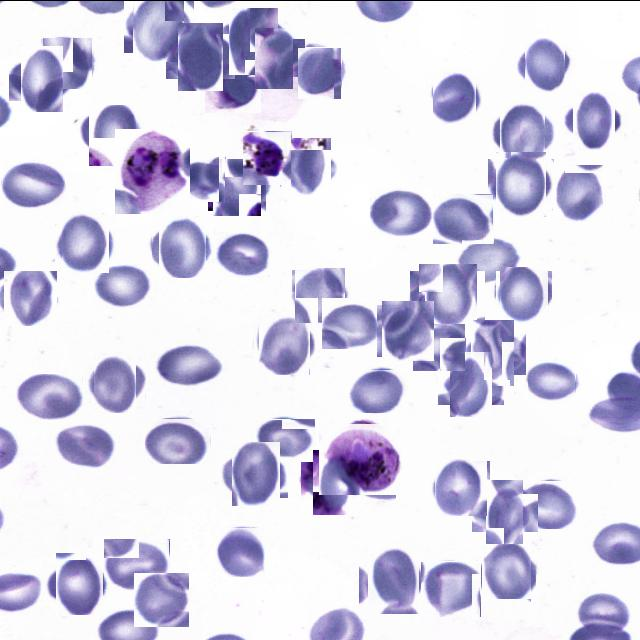difficult: (115, 128, 190, 213), (243, 130, 292, 184)
red blood cell: (414, 266, 480, 332), (364, 548, 424, 608), (129, 0, 190, 57), (370, 188, 436, 240), (104, 538, 170, 590), (224, 12, 283, 70), (549, 166, 607, 224), (492, 154, 550, 212), (421, 560, 481, 616), (227, 444, 284, 502), (172, 27, 229, 84), (2, 160, 66, 210), (16, 372, 84, 419), (155, 344, 224, 390), (432, 458, 488, 514), (256, 316, 312, 372), (380, 302, 436, 358), (465, 324, 520, 380), (85, 106, 140, 162), (433, 193, 494, 243), (52, 556, 108, 610), (156, 218, 210, 274), (54, 422, 118, 469), (134, 572, 189, 626), (145, 418, 211, 463), (15, 51, 69, 106), (518, 480, 579, 528), (495, 106, 549, 160), (480, 545, 534, 599), (444, 356, 498, 410), (3, 270, 57, 324), (462, 239, 523, 286), (59, 214, 112, 268), (322, 297, 378, 348), (307, 455, 360, 508), (210, 160, 264, 212), (294, 268, 346, 321), (205, 63, 261, 112), (568, 94, 620, 146), (498, 268, 550, 320), (479, 486, 531, 538), (89, 355, 141, 407), (349, 368, 408, 412), (215, 230, 271, 276), (94, 265, 155, 307), (213, 526, 264, 576), (413, 322, 466, 370), (430, 70, 480, 120), (42, 38, 92, 88), (284, 140, 334, 190), (249, 32, 299, 82), (575, 594, 632, 637), (256, 418, 315, 458), (520, 40, 568, 88), (298, 46, 342, 98), (528, 360, 576, 402), (184, 155, 226, 201)
schizont: (322, 420, 398, 497)
